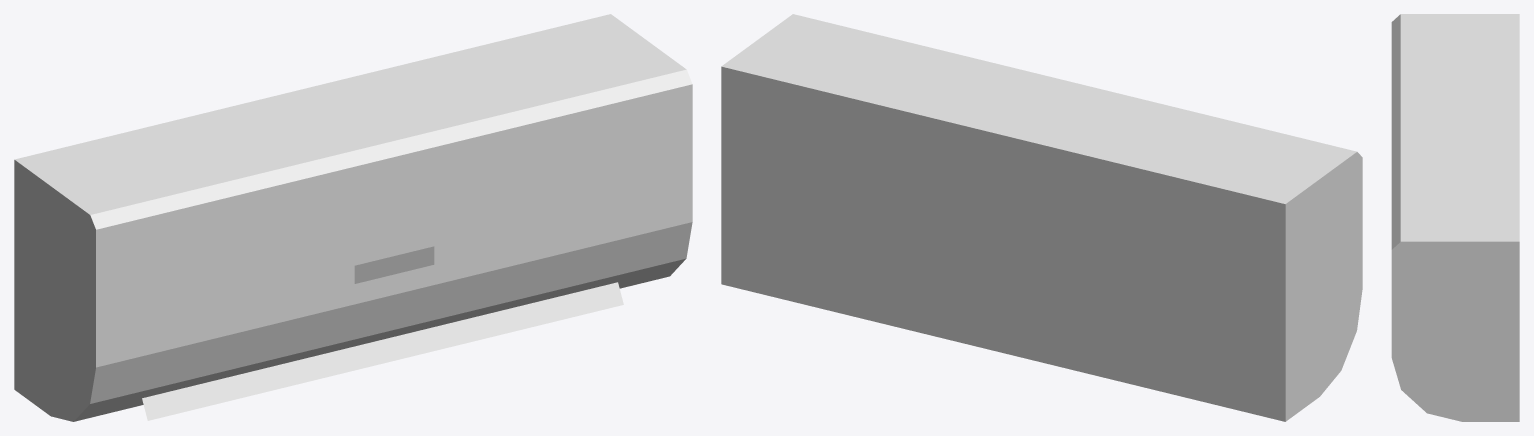
3 renders of one model, left to right at view 1: azimuth 30°, elevation 25°; view 2: azimuth 150°, elevation 25°; view 3: azimuth 270°, elevation 25°, orthographic. The views are drawn at different scales.
Parts seen in each view (by area): view 1: Ac_M; view 2: Ac_M; view 3: Ac_M.
Boxes of the visible parts, left/top/right/bottom form: Ac_M: left=14, top=14, right=692, bottom=421; Ac_M: left=721, top=14, right=1362, bottom=421; Ac_M: left=1391, top=14, right=1519, bottom=421.
Bounding box in the file's own units: 84.72 × 31.24 × 20.12.
Materials: 1 (1 with a texture image).
